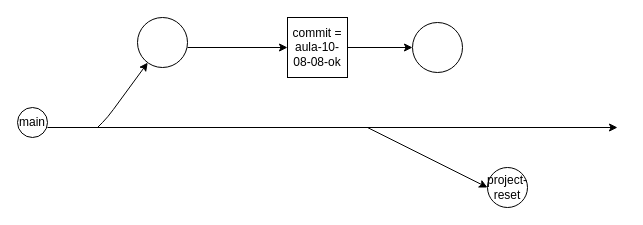
Some shapes in this 643 by 225 pixel diagram are drawn without their labels. The shapes that lost their labels are listed below. From the top down, each one's box as (x1, y1, x2, y2) in pixels, then its label:
(136, 16, 188, 68): estudo-10-08
(412, 22, 462, 72): estudo-17-08
